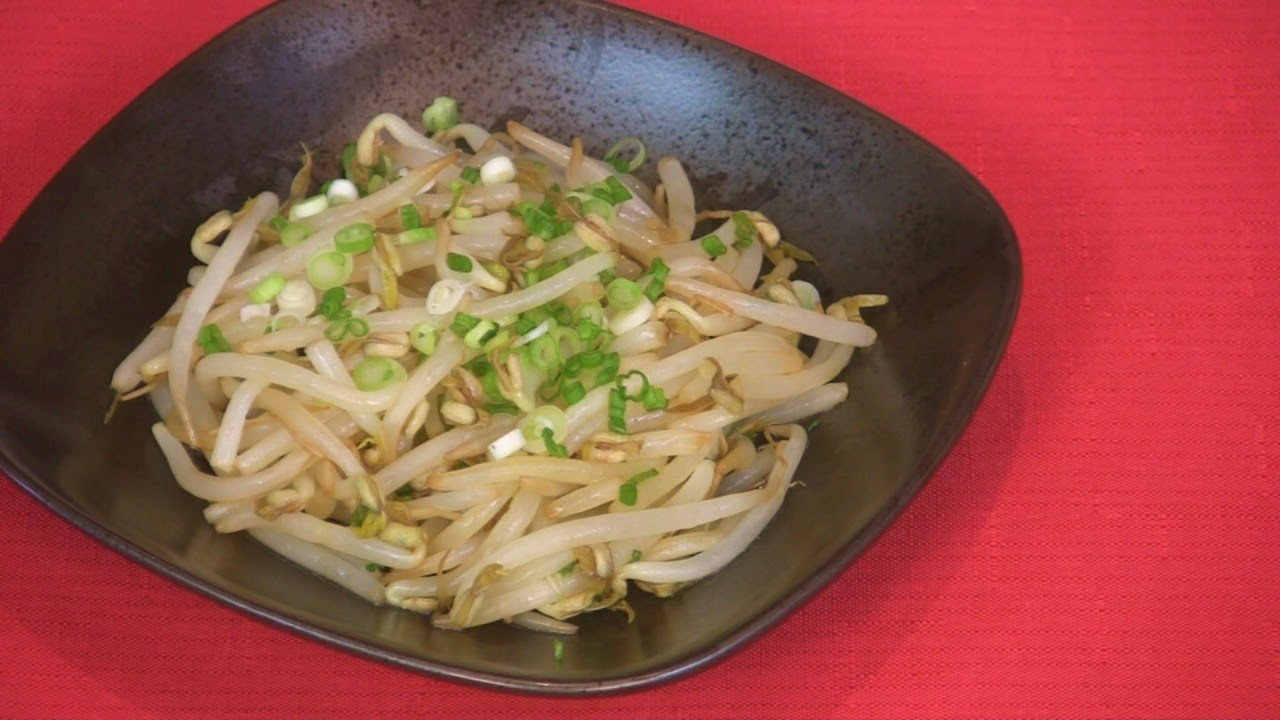mung_bean_sprouts: (155, 115, 852, 622)
